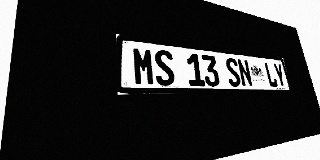1: (185, 53, 205, 86)
3: (201, 55, 220, 86)
L: (263, 62, 278, 87)
M: (132, 47, 156, 86)
N: (237, 59, 253, 87)
S: (153, 49, 176, 86), (224, 57, 242, 87)
Y: (273, 63, 287, 87)
